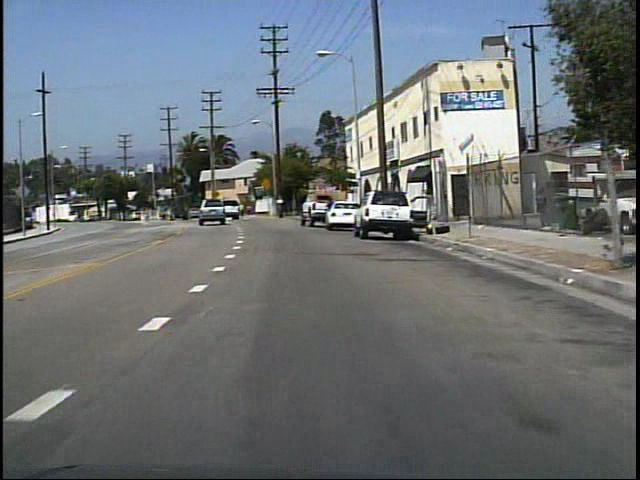person: (237, 200, 247, 221), (245, 201, 255, 219)
